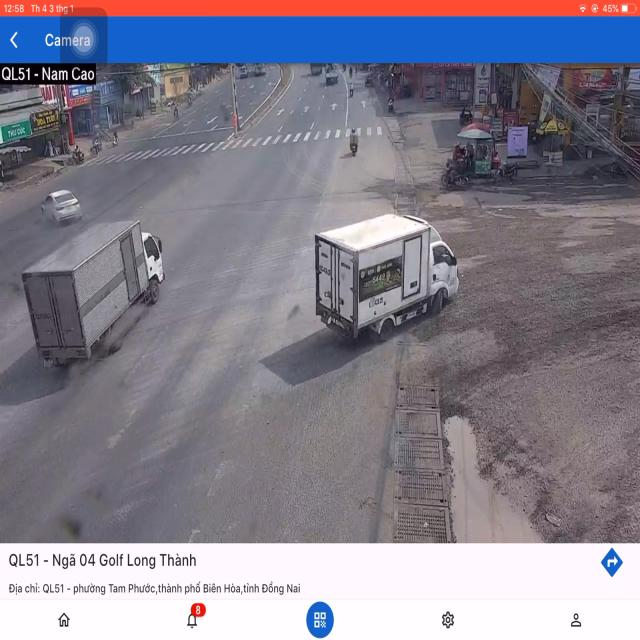car: (42, 190, 82, 227)
motorbike: (346, 123, 358, 155)
truck: (23, 217, 160, 375), (311, 213, 453, 343)
